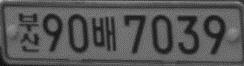0: (150, 13, 173, 56), (66, 12, 89, 54)
3: (176, 13, 199, 55)
7: (122, 13, 147, 53)
9: (202, 13, 227, 55), (41, 12, 64, 52)
배: (91, 15, 117, 52)
부산_V: (18, 11, 41, 52)
